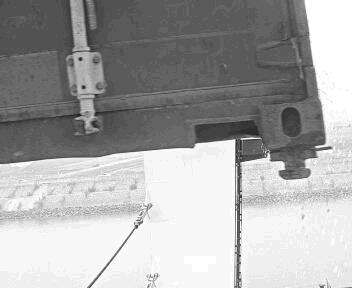twist_lock_1: (265, 143, 324, 188)
